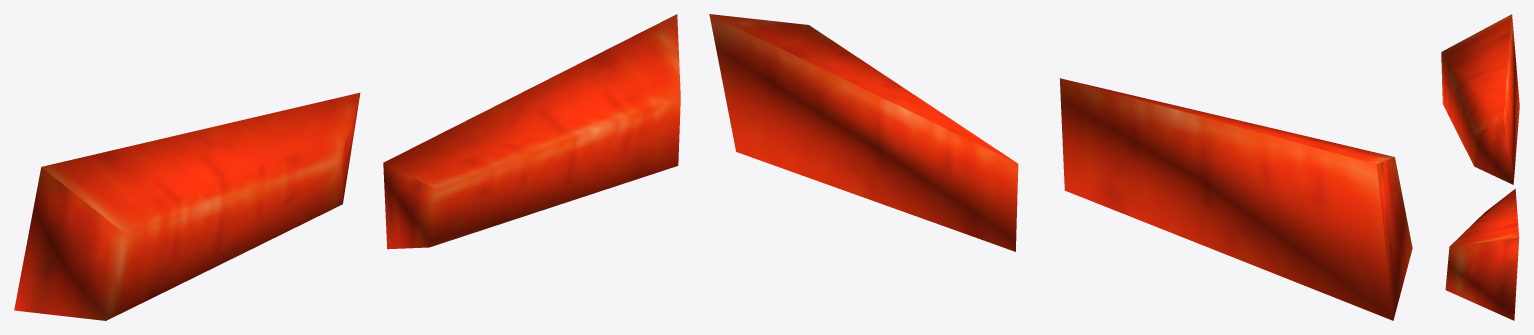
Rendered from CejasAku.obj.
The picture shows the model from 3 angles, left to right: view 1: azimuth 30°, elevation 25°; view 2: azimuth 150°, elevation 25°; view 3: azimuth 270°, elevation 25°; orthographic projection. The views are drawn at different scales.
Parts seen in each view (by area): view 1: CejasAku_AkuAku.001; view 2: CejasAku_AkuAku.001; view 3: CejasAku_AkuAku.001.
Part boxes in pixels (x1,y1,x2,y2): CejasAku_AkuAku.001: [14, 14, 680, 320]; CejasAku_AkuAku.001: [709, 14, 1412, 320]; CejasAku_AkuAku.001: [1441, 14, 1519, 320].
Size of the model in its own units: 14.2 by 3.5 by 2.09.
1 material, 1 textured.
